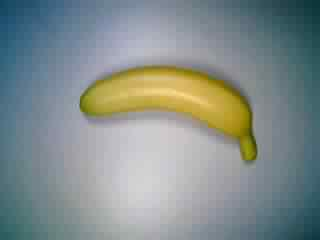banana: (73, 63, 261, 163)
